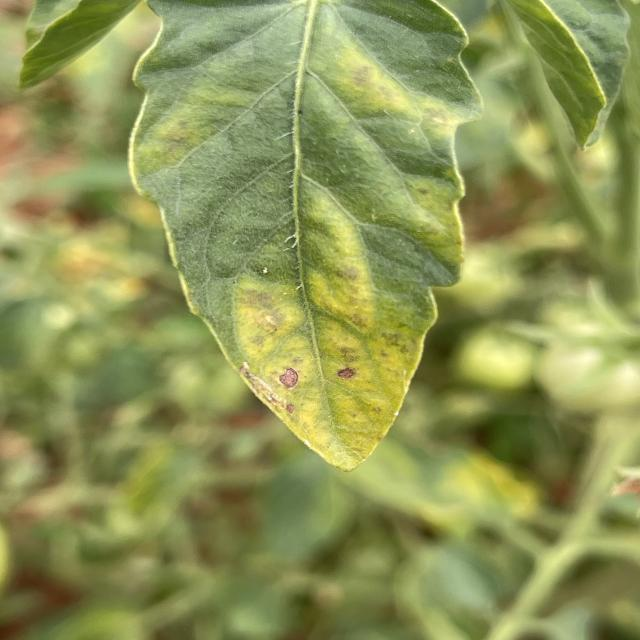tomato_early blight: (134, 0, 473, 472)
